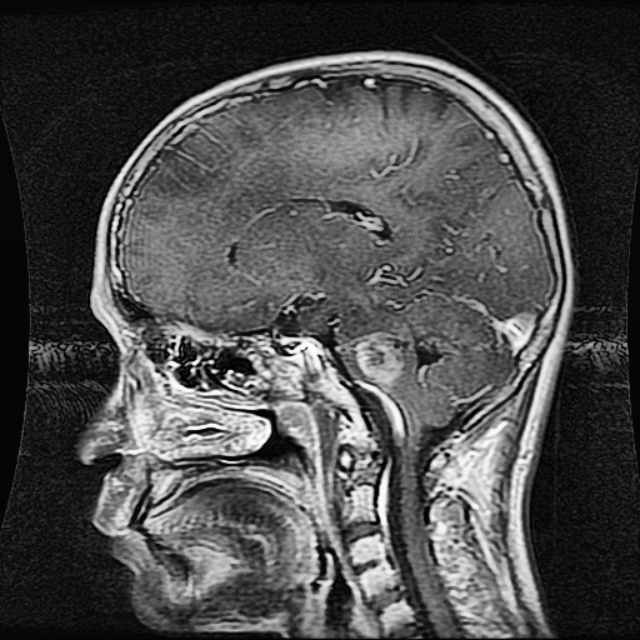Meningioma: (354, 338, 404, 383)
